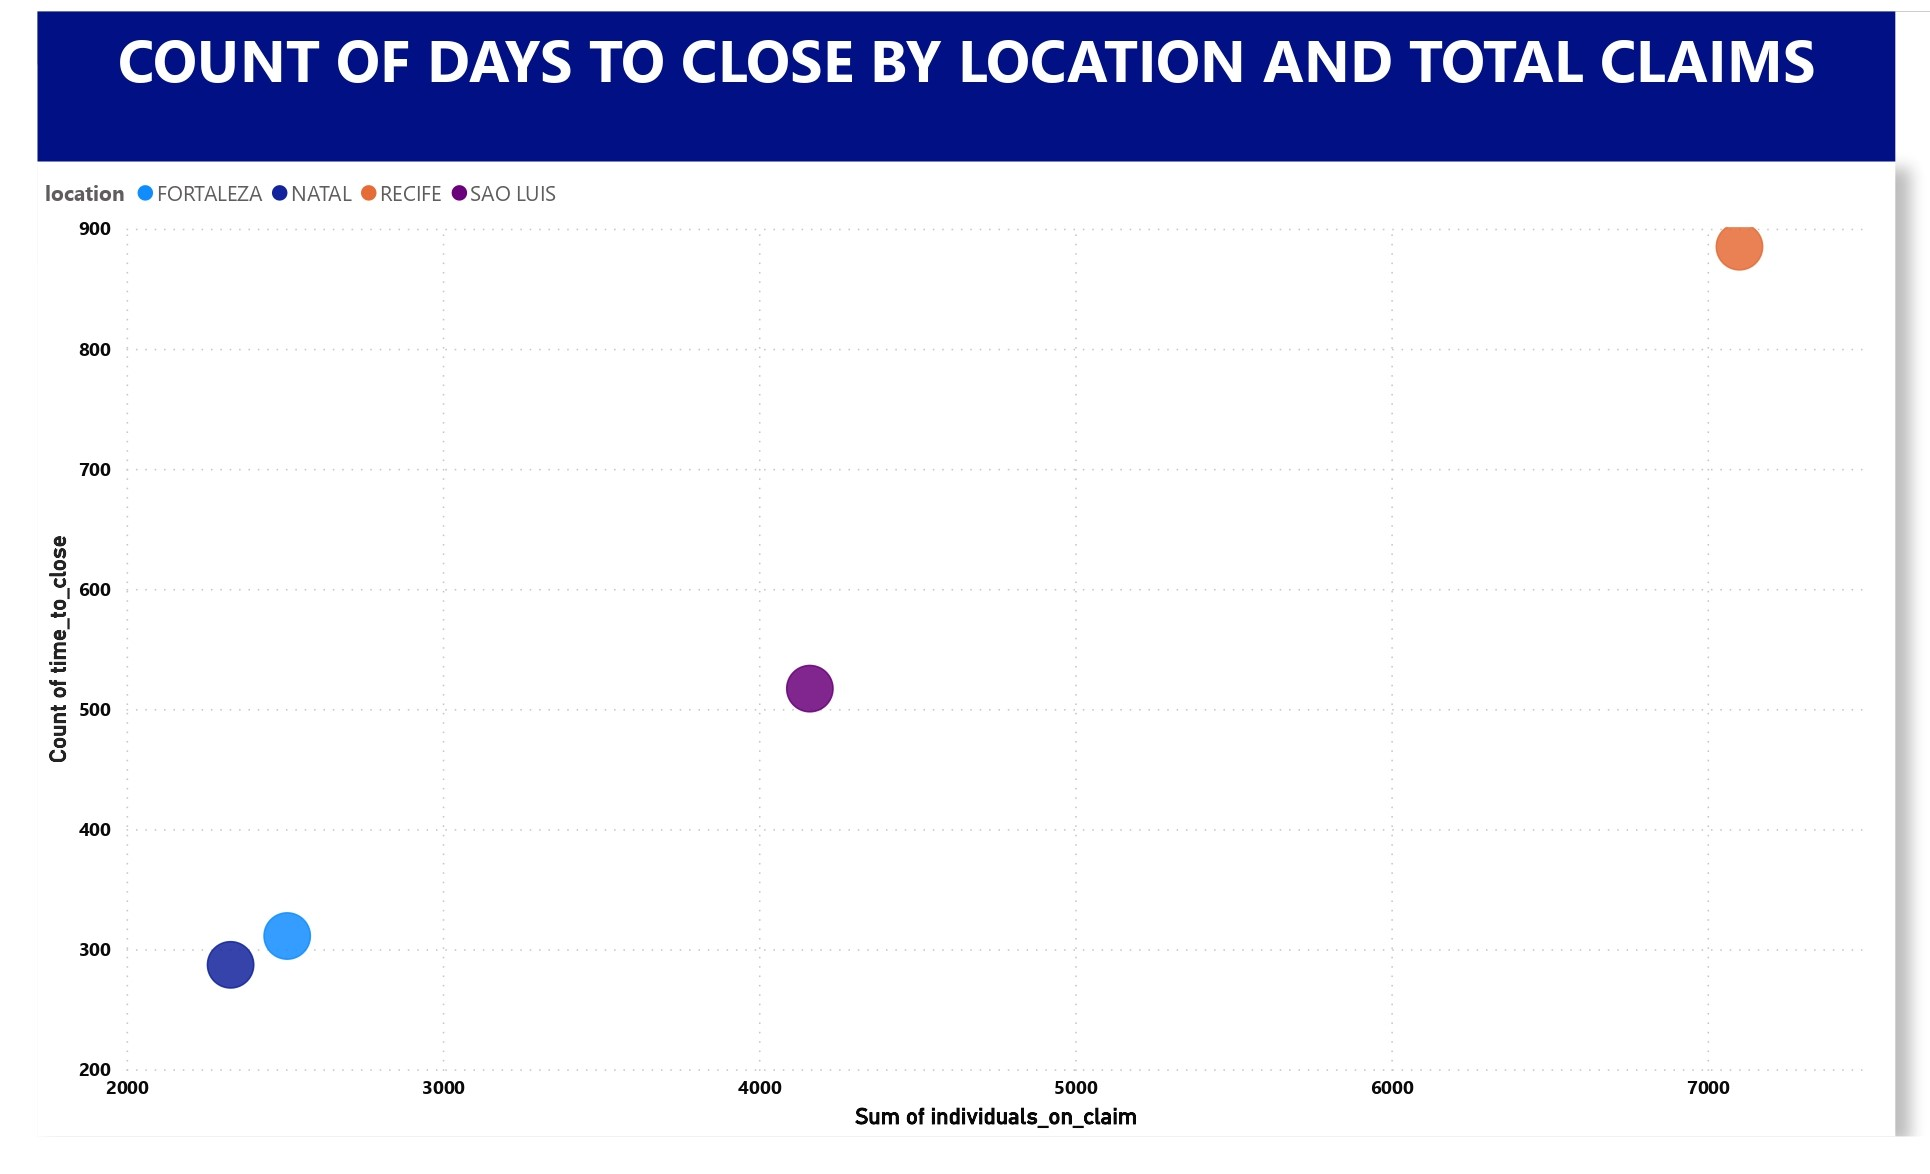

This screenshot's page, from the dashboard's own definition file:
{"tool":"powerbi","page":{"name":"Relationship between location and days to close","canvas":[1280,720],"ordinal":2},"visuals":[{"type":"scatterChart","fields":{"Series":["food_claims_2212.location"],"X":["Sum(food_claims_2212.individuals_on_claim)"],"Y":["CountNonNull(food_claims_2212.time_to_close)"]},"box":[0,95.9,1189.2,624],"z":0},{"type":"textbox","box":[0,0,1189.2,95.9],"z":1000}]}

Visuals, with their boxes on the page's 1280x720 design canvas (x1, y1, x2, y2). These are canvas units, not pixel positions in the 1930x1174 screenshot, which may show the page scaled, cropped or inside an application window:
scatterChart - food_claims_2212.location x Sum(food_claims_2212.individuals_on_claim): locate(0, 96, 1189, 720)
textbox: locate(0, 0, 1189, 96)
